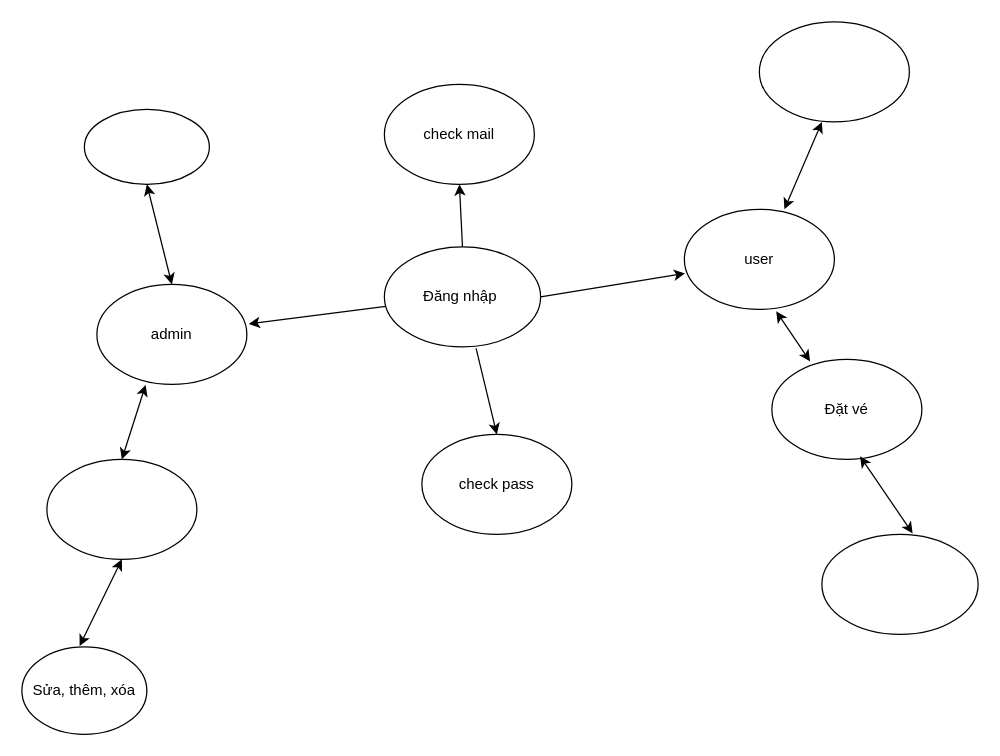
The diagram is 1000 pixels wide and 756 high, and some of its shapes have lost their labels. Each missing label, with the centre of its shape:
"Cập nhật sản phẩm" belongs at [121,508].
"thanh toán" belongs at [833,71].
"thống kê" belongs at [146,146].
"thời gian" belongs at [899,583].
